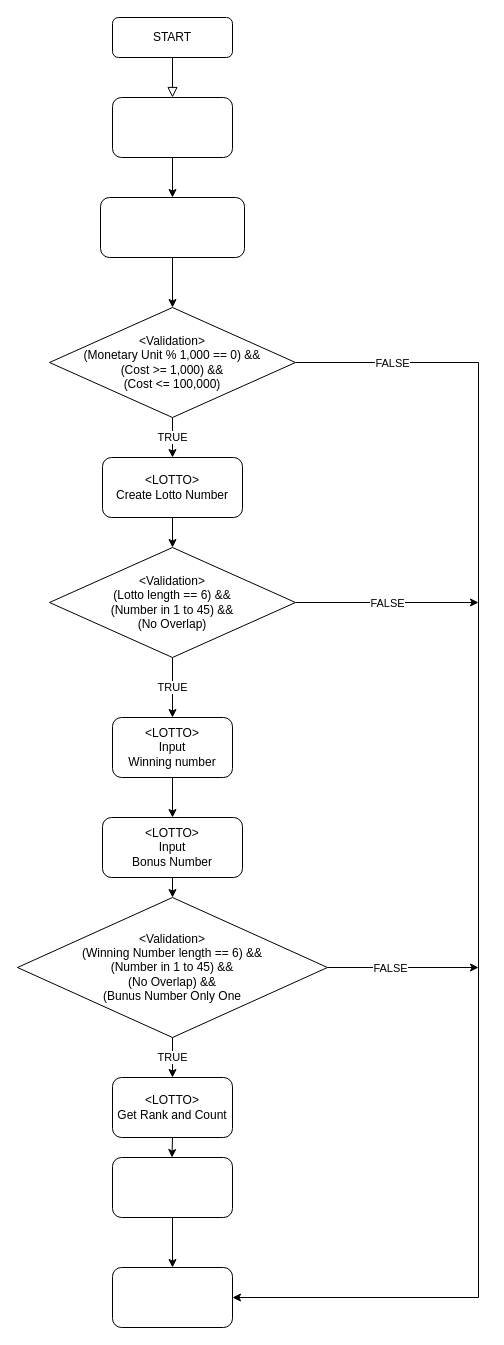
The diagram is 504 pixels wide and 1345 high, and some of its shapes have lost their labels. Here are the shapes that lost their labels. From the top down, the box of each, then its label:
(112, 96, 232, 158): Lotto Start
(100, 196, 244, 258): <USER> Input Cost
(112, 1156, 232, 1218): <LOTTO> Print Winning Statistics
(112, 1266, 232, 1328): END
